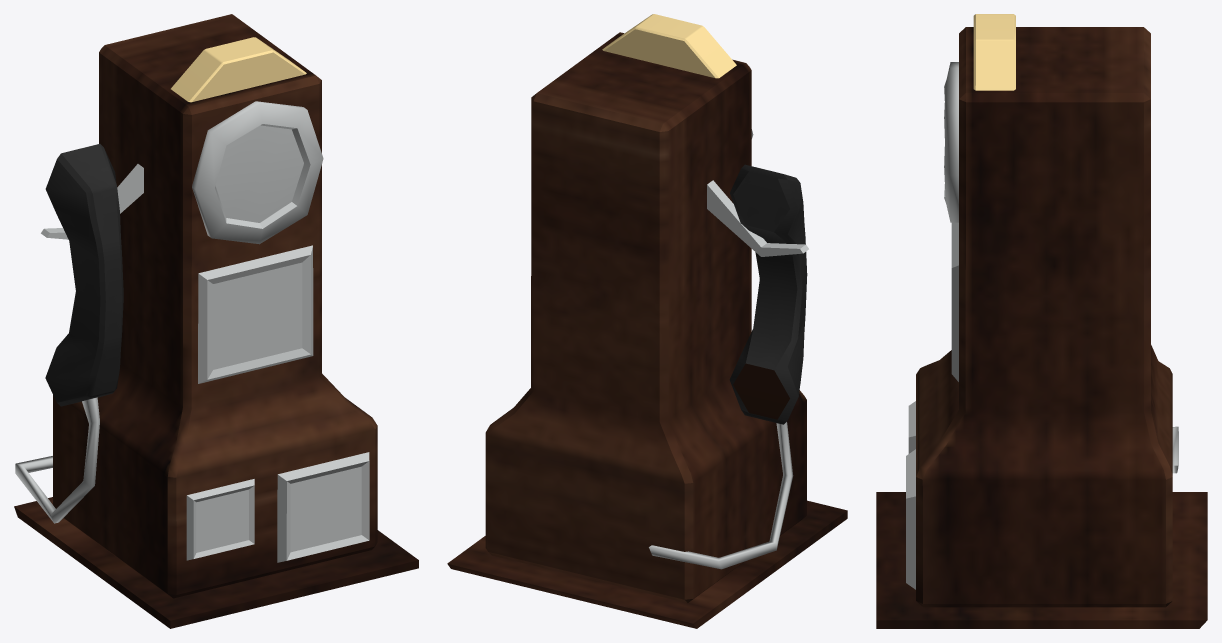
The model's file is Tower_Station_Telephone_Art.glb.
3 views of the same model, side by side, from view 1: azimuth 30°, elevation 25°; view 2: azimuth 150°, elevation 25°; view 3: azimuth 270°, elevation 25° (orthographic). The views are drawn at different scales.
Visible parts, largest first — view 1: Tower_Station_Telephone_Art; view 2: Tower_Station_Telephone_Art; view 3: Tower_Station_Telephone_Art.
Part boxes in pixels (x1,y1,x2,y2): Tower_Station_Telephone_Art: (14, 14, 418, 628); Tower_Station_Telephone_Art: (447, 14, 847, 628); Tower_Station_Telephone_Art: (876, 14, 1207, 628).
Size of the model in its own units: 0.6852 by 1.14 by 0.6375.
Materials: 1 (1 with a texture image).
